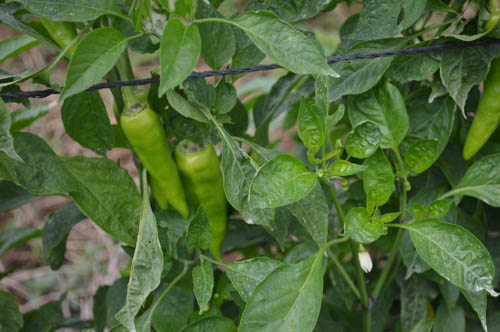ChiliPepper: (125, 110, 186, 220), (178, 143, 229, 257), (464, 64, 497, 176)
